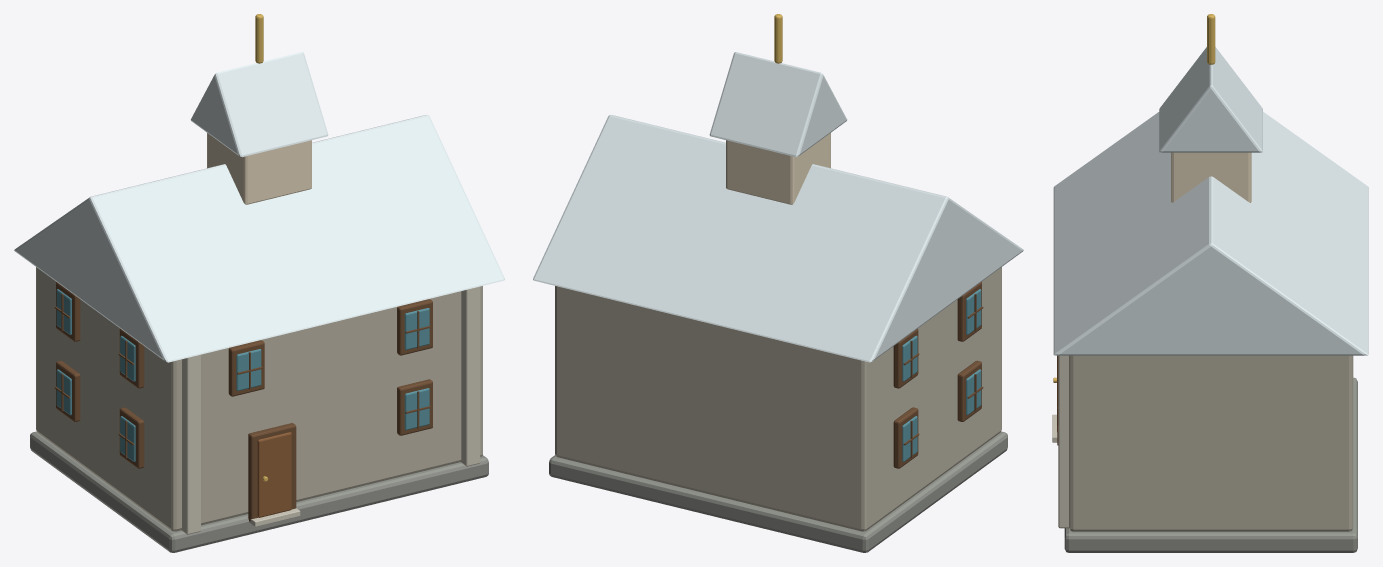
Rendered from snowy-civic-0.glb.
3 views of the same model, side by side, from view 1: azimuth 30°, elevation 25°; view 2: azimuth 150°, elevation 25°; view 3: azimuth 270°, elevation 25° (orthographic). The views are drawn at different scales.
Parts seen in each view (by area): view 1: Snow, Warm civic stone, Foundation stone, Dark beams, Cut limestone, Blue glass, Warm lime, Door oak; view 2: Snow, Warm civic stone, Foundation stone, Warm lime, Dark beams, Blue glass; view 3: Snow, Warm civic stone, Foundation stone, Warm lime, Cut limestone, Warm brass.
Part boxes in pixels (x1,y1,x2,y2): Snow: (14,52,504,362); Warm civic stone: (36,267,482,531); Foundation stone: (30,431,488,552); Dark beams: (54,282,432,521); Cut limestone: (181,286,480,534); Blue glass: (56,289,429,461); Warm lime: (207,133,311,204); Door oak: (257,432,291,517); Snow: (533,52,1023,362); Warm civic stone: (555,267,1001,531); Foundation stone: (549,431,1007,552); Warm lime: (726,133,830,204); Dark beams: (893,282,983,468); Blue glass: (902,289,981,461); Snow: (1053,47,1368,355); Warm civic stone: (1069,355,1353,531); Foundation stone: (1064,377,1357,552); Warm lime: (1171,152,1251,202); Cut limestone: (1052,355,1068,528); Warm brass: (1053,14,1215,382).
Bounding box in the file's own units: 5.24 × 6.61 × 4.12.
